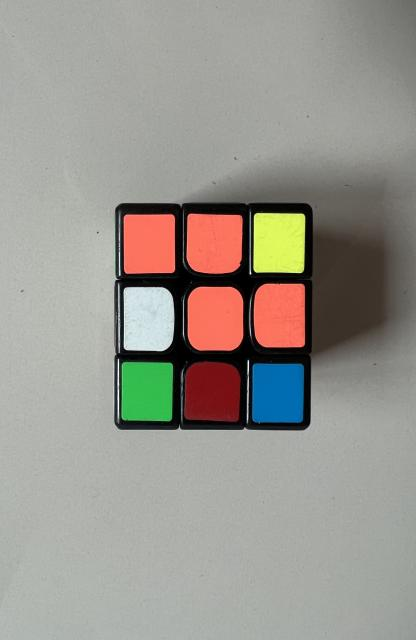Blue: (252, 364, 304, 422)
Green: (121, 362, 173, 421)
Orange: (187, 286, 244, 351), (186, 214, 243, 274), (254, 284, 306, 348), (124, 214, 176, 274)
Red: (184, 361, 240, 422)
White: (124, 288, 174, 351)
Yellow: (254, 212, 306, 274)
